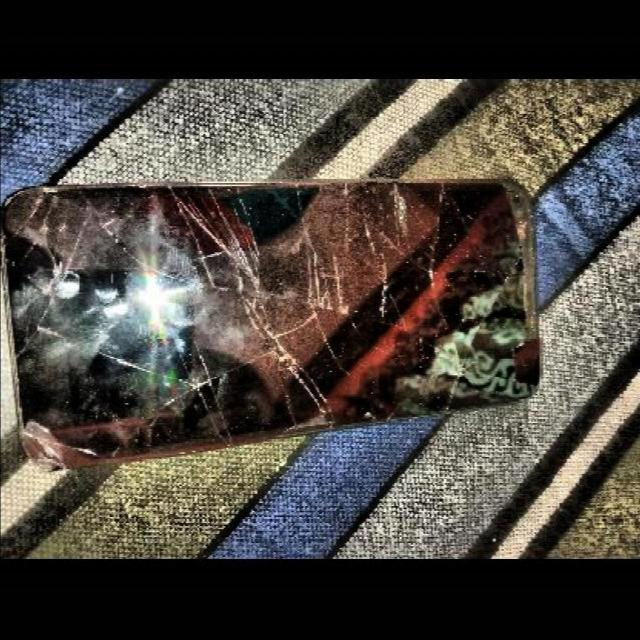Crack: (3, 119, 574, 484)
